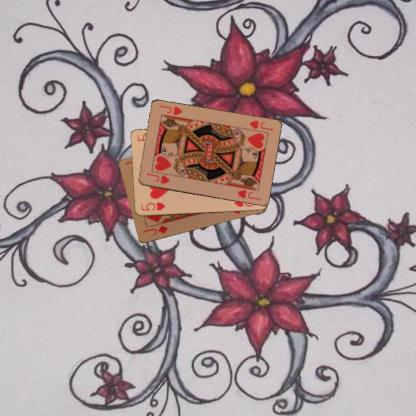5h: (139, 199, 166, 212)
Jd: (140, 223, 170, 236)
Jh: (144, 170, 171, 186), (247, 118, 274, 132)
